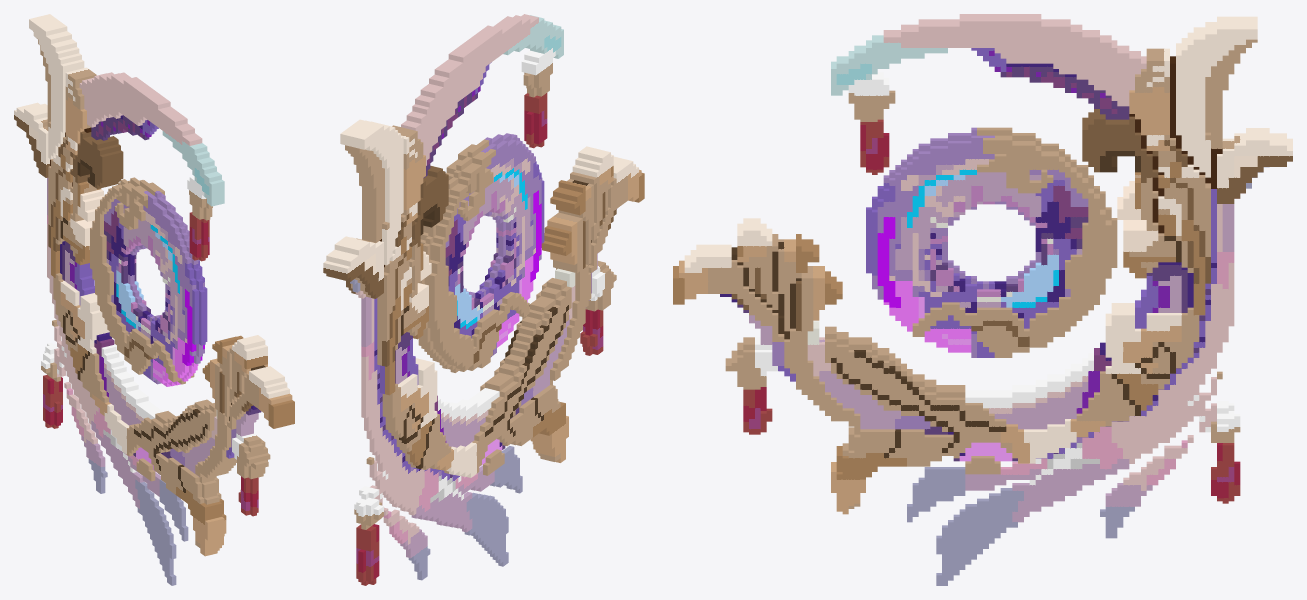
The model's file is [原神]不灭月华.gltf.
3 renders of one model, left to right at view 1: azimuth 30°, elevation 25°; view 2: azimuth 150°, elevation 25°; view 3: azimuth 270°, elevation 25°, orthographic. The views are drawn at different scales.
Parts seen in each view (by area): view 1: Object; view 2: Object; view 3: Object.
Part boxes in pixels (x1,y1,x2,y2): Object: (14,14,294,585); Object: (323,14,644,585); Object: (673,14,1292,585).
Size of the model in its own units: 5 by 107 by 106.
Materials: 1 (1 with a texture image).
